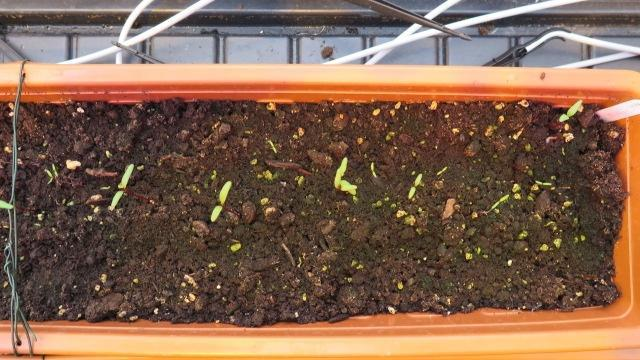crop: (105, 161, 134, 210), (207, 179, 233, 222)
